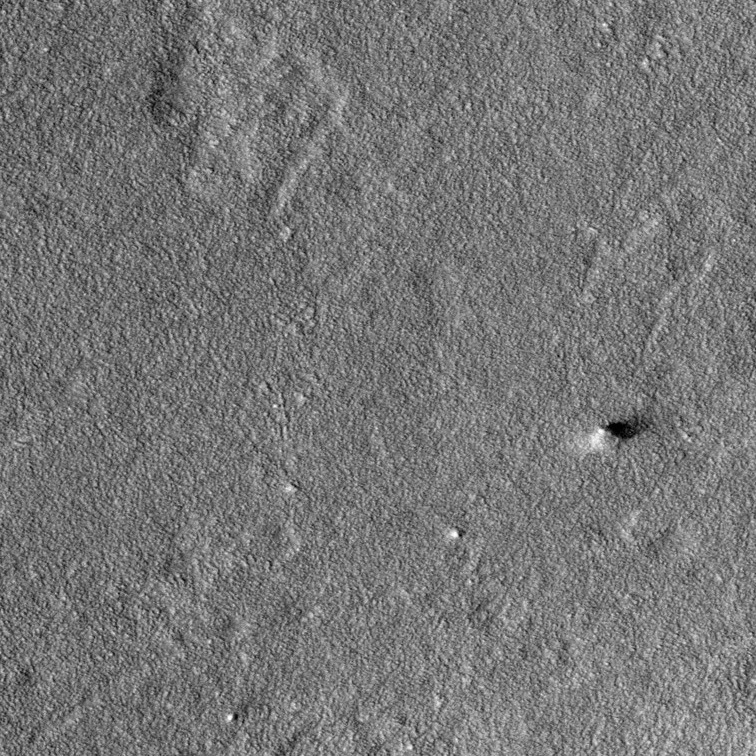dust_devil: (582, 415, 649, 460)
